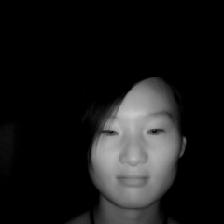normal: (61, 57, 196, 215)
